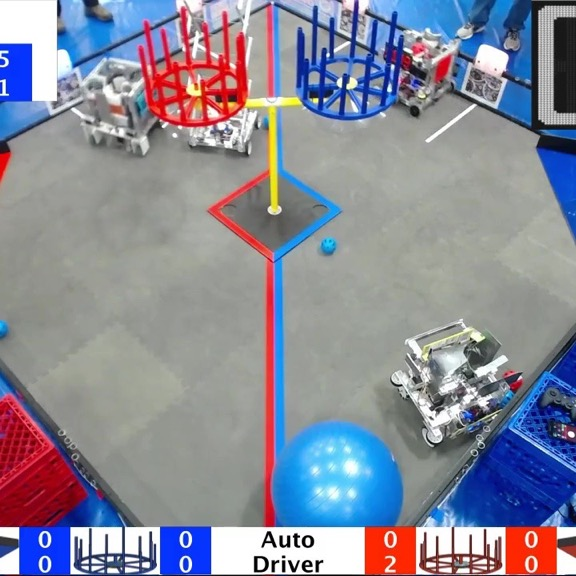ball: (318, 235, 336, 256), (0, 317, 11, 334)
robot: (387, 314, 522, 446), (180, 2, 255, 158), (71, 54, 168, 155), (370, 22, 461, 119)
yogaball: (268, 416, 409, 527)
